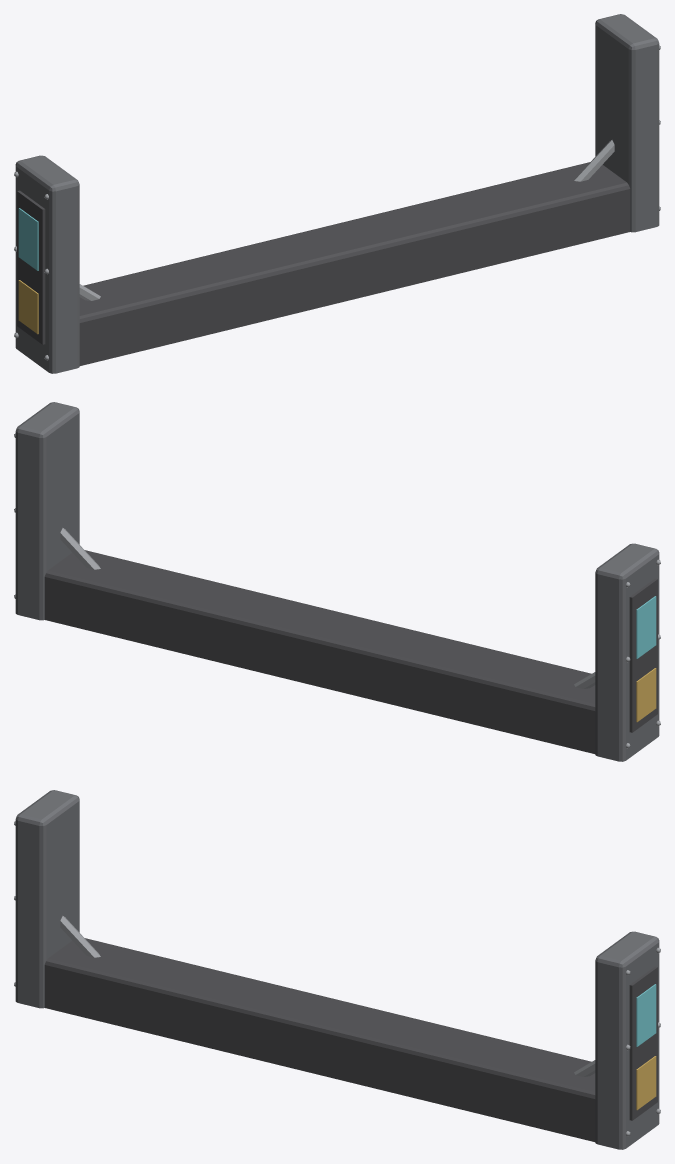
The model's file is rn2-fabrica-rib.glb.
3 renders of one model, top to bottom at view 1: azimuth 30°, elevation 25°; view 2: azimuth 150°, elevation 25°; view 3: azimuth 330°, elevation 25°, orthographic.
Visible parts, largest first — view 1: rn2_fabrica_rib_body, rn2_fabrica_rib_glow; view 2: rn2_fabrica_rib_body, rn2_fabrica_rib_glow; view 3: rn2_fabrica_rib_body, rn2_fabrica_rib_glow.
Boxes of the visible parts, box(x1,y1,x2,y2) form: rn2_fabrica_rib_body: box(14, 14, 660, 373); rn2_fabrica_rib_glow: box(18, 208, 38, 334); rn2_fabrica_rib_body: box(14, 402, 660, 761); rn2_fabrica_rib_glow: box(636, 596, 656, 722); rn2_fabrica_rib_body: box(14, 790, 660, 1149); rn2_fabrica_rib_glow: box(636, 984, 656, 1110).
Bounding box in the file's own units: 11.26 × 3.25 × 1.2.
